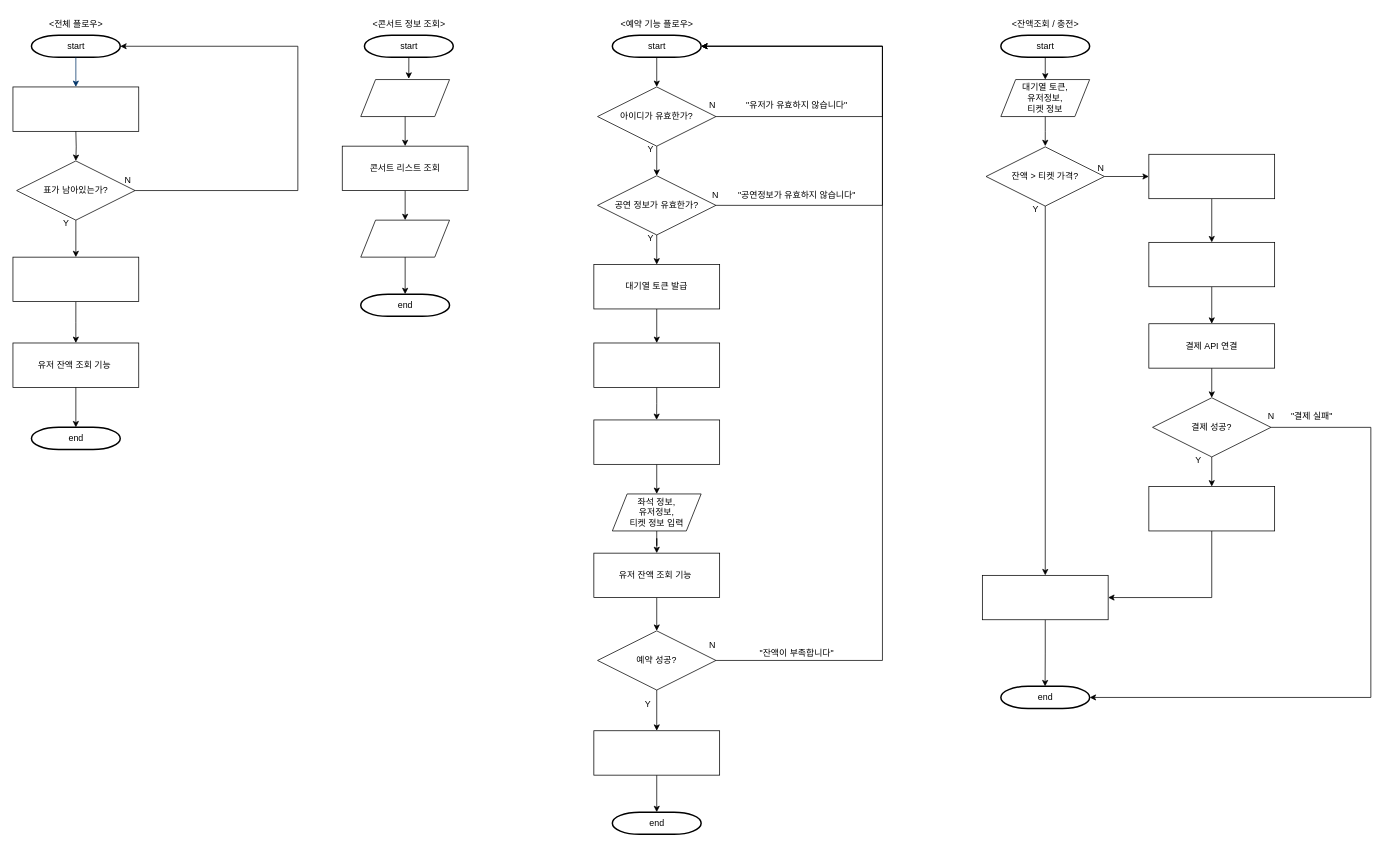
Some shapes in this 1390 by 847 pixel diagram are drawn without their labels. Each missing label, with the centre of its shape:
대기열 토큰 반납: [656,752]
반올림 후 충전: [1211,264]
부족한 잔액 계산: [1211,176]
예약 API: [75,279]
잔액 사용: [1045,597]
잔액 충전: [1211,508]
잔여 좌석 조회: [656,364]
좌석 선택: [656,441]
콘서트 정보 조회 API: [75,108]
현재 날짜 기준 최신순 공연 출력: [405,238]
현재 날짜 입력: [405,98]
